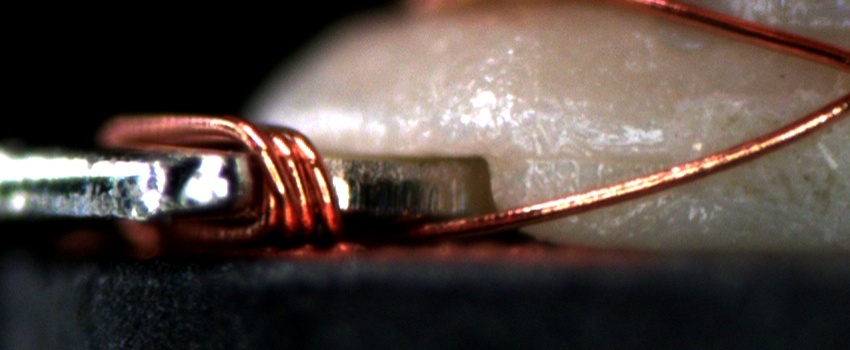DL: (522, 137, 683, 190), (644, 81, 850, 119)
TE: (97, 99, 364, 253)
